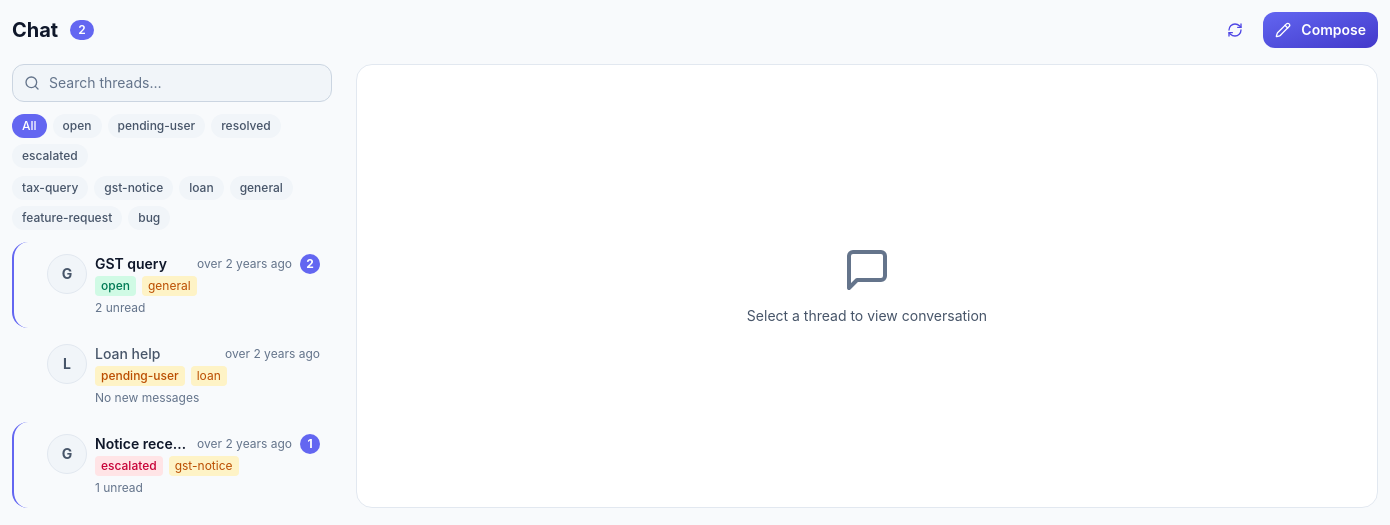
ChatInboxPage › search input filters threads by subject
Check: the text "GST query" is shown, box [95, 254, 167, 274]
In the search field with placeholder "Search threads…": (172,83) [12, 64, 332, 102], type "Loan"
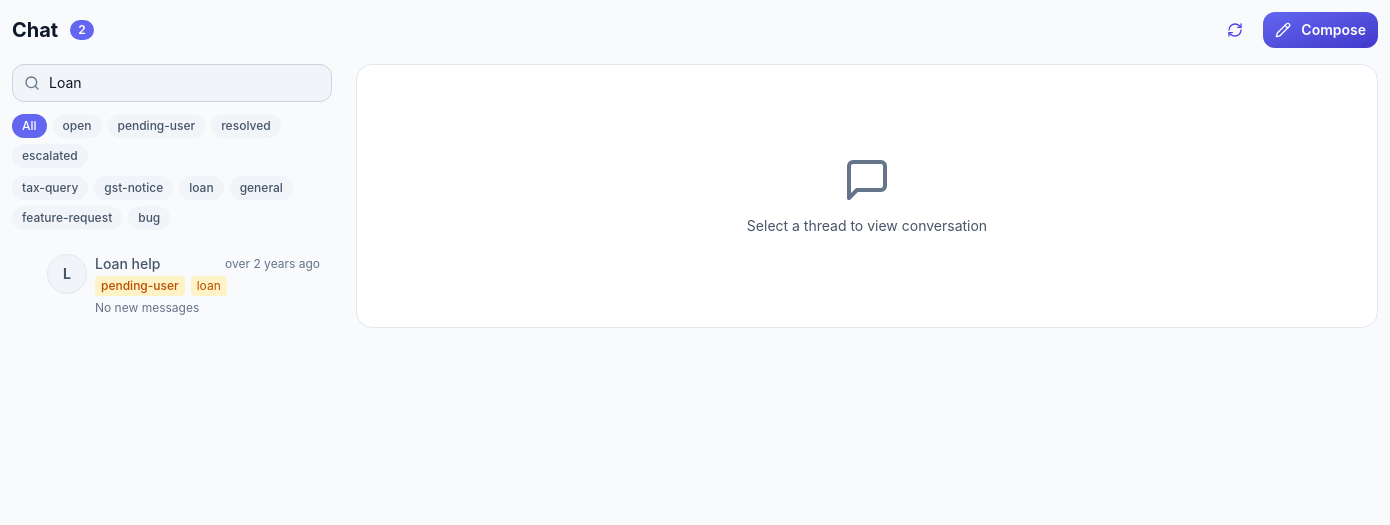
Check: the text "Loan help" is shown, box [95, 254, 160, 274]
Check: the text "GST query" is gone
